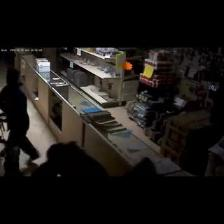person: (0, 69, 39, 175), (32, 142, 107, 177)
